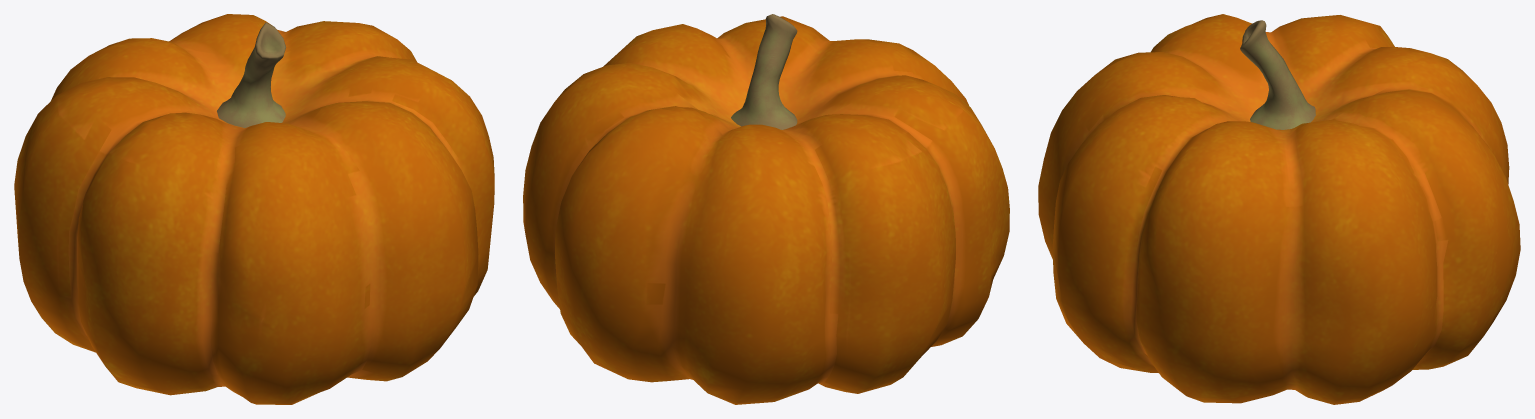
The model's file is pumpkin.glb.
The picture shows the model from 3 angles, left to right: view 1: azimuth 30°, elevation 25°; view 2: azimuth 150°, elevation 25°; view 3: azimuth 270°, elevation 25°; orthographic projection.
Visible parts, largest first — view 1: 1_low, 2_low; view 2: 1_low, 2_low; view 3: 1_low, 2_low.
Boxes of the visible parts, box(x1,y1,x2,y2) form: 1_low: box(14, 14, 494, 404); 2_low: box(217, 22, 285, 127); 1_low: box(523, 16, 1009, 404); 2_low: box(731, 14, 797, 129); 1_low: box(1038, 14, 1520, 404); 2_low: box(1240, 20, 1315, 129).
Bounding box in the file's own units: 0.9293 × 0.698 × 0.9437.
1 material, 1 textured.
